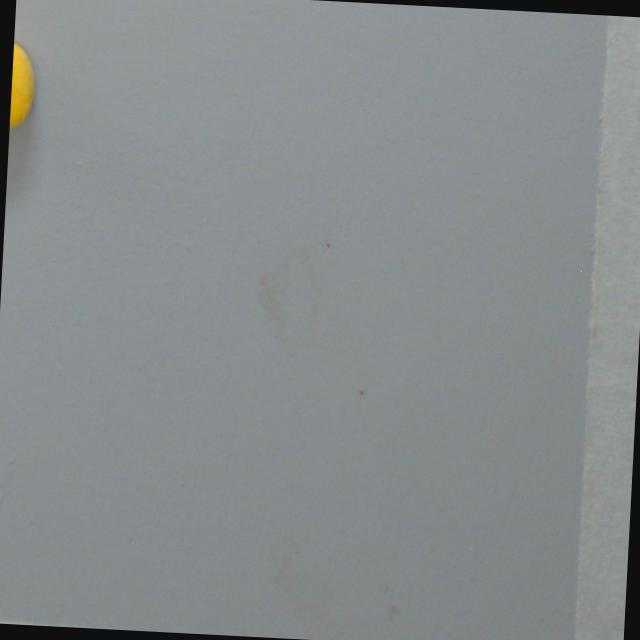pelicula: (10, 38, 38, 131)
